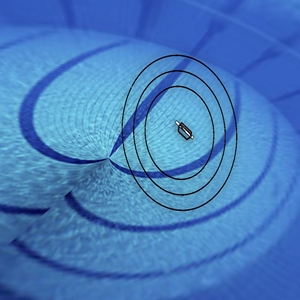circle: (84, 34, 258, 219)
submarine: (167, 114, 199, 153)
